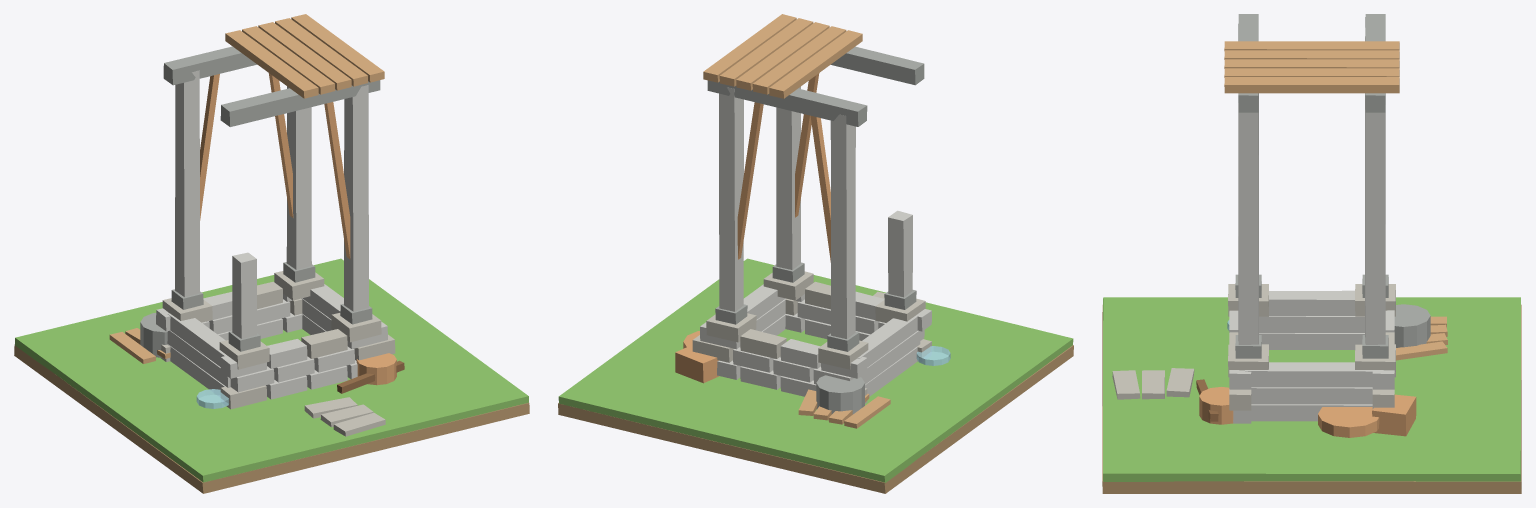
File: tower_l06_damaged_LOD2.glb
3 views of the same model, side by side, from view 1: azimuth 30°, elevation 25°; view 2: azimuth 150°, elevation 25°; view 3: azimuth 270°, elevation 25° (orthographic). The views are drawn at different scales.
Visible parts, largest first — view 1: tower_l06_grass_tile_tower_l06_damaged_LOD2_tmp, tower_l06_earth_tile_tower_l06_damaged_LOD2_tmp, post_-0.61_0.54_tower_l06_damaged_LOD2_tmp, post_0.61_-0.54_tower_l06_damaged_LOD2_tmp, post_0.61_0.54_tower_l06_damaged_LOD2_tmp, deck_bearer_-0.54_tower_l06_damaged_LOD2_tmp, post_-0.61_-0.54_tower_l06_damaged_LOD2_tmp, deck_bearer_0.54_tower_l06_damaged_LOD2_tmp, deck_board_4_tower_l06_damaged_LOD2_tmp, brace_0.61_-0.54_tower_l06_damaged_LOD2_tmp, deck_board_8_tower_l06_damaged_LOD2_tmp, deck_board_6_tower_l06_damaged_LOD2_tmp (+30 smaller); view 2: tower_l06_grass_tile_tower_l06_damaged_LOD2_tmp, tower_l06_earth_tile_tower_l06_damaged_LOD2_tmp, post_-0.61_0.54_tower_l06_damaged_LOD2_tmp, post_0.61_0.54_tower_l06_damaged_LOD2_tmp, post_0.61_-0.54_tower_l06_damaged_LOD2_tmp, deck_bearer_0.54_tower_l06_damaged_LOD2_tmp, post_-0.61_-0.54_tower_l06_damaged_LOD2_tmp, deck_bearer_-0.54_tower_l06_damaged_LOD2_tmp, deck_board_4_tower_l06_damaged_LOD2_tmp, fallen_relay_tower_l06_damaged_LOD2_tmp, deck_board_7_tower_l06_damaged_LOD2_tmp, deck_board_5_tower_l06_damaged_LOD2_tmp (+25 smaller); view 3: tower_l06_grass_tile_tower_l06_damaged_LOD2_tmp, tower_l06_earth_tile_tower_l06_damaged_LOD2_tmp, post_0.61_-0.54_tower_l06_damaged_LOD2_tmp, post_0.61_0.54_tower_l06_damaged_LOD2_tmp, deck_board_8_tower_l06_damaged_LOD2_tmp, stone_return_2_0.72_tower_l06_damaged_LOD2_tmp, stone_return_1_0.72_tower_l06_damaged_LOD2_tmp, stone_return_2_-0.72_tower_l06_damaged_LOD2_tmp, stone_return_1_-0.72_tower_l06_damaged_LOD2_tmp, deck_board_4_tower_l06_damaged_LOD2_tmp, deck_board_5_tower_l06_damaged_LOD2_tmp, deck_board_6_tower_l06_damaged_LOD2_tmp (+21 smaller).
Boxes of the visible parts, bbox=[...] form: tower_l06_grass_tile_tower_l06_damaged_LOD2_tmp: bbox=[15, 258, 528, 482]; tower_l06_earth_tile_tower_l06_damaged_LOD2_tmp: bbox=[14, 344, 529, 493]; post_-0.61_0.54_tower_l06_damaged_LOD2_tmp: bbox=[175, 70, 199, 297]; post_0.61_-0.54_tower_l06_damaged_LOD2_tmp: bbox=[344, 85, 368, 311]; post_0.61_0.54_tower_l06_damaged_LOD2_tmp: bbox=[286, 86, 311, 269]; deck_bearer_-0.54_tower_l06_damaged_LOD2_tmp: bbox=[220, 80, 380, 126]; post_-0.61_-0.54_tower_l06_damaged_LOD2_tmp: bbox=[232, 252, 256, 338]; deck_bearer_0.54_tower_l06_damaged_LOD2_tmp: bbox=[163, 46, 256, 85]; deck_board_4_tower_l06_damaged_LOD2_tmp: bbox=[225, 30, 318, 98]; brace_0.61_-0.54_tower_l06_damaged_LOD2_tmp: bbox=[324, 102, 350, 259]; deck_board_8_tower_l06_damaged_LOD2_tmp: bbox=[291, 14, 384, 82]; deck_board_6_tower_l06_damaged_LOD2_tmp: bbox=[258, 22, 351, 90]; tower_l06_grass_tile_tower_l06_damaged_LOD2_tmp: bbox=[558, 258, 1073, 482]; tower_l06_earth_tile_tower_l06_damaged_LOD2_tmp: bbox=[558, 345, 1073, 493]; post_-0.61_0.54_tower_l06_damaged_LOD2_tmp: bbox=[830, 114, 855, 338]; post_0.61_0.54_tower_l06_damaged_LOD2_tmp: bbox=[719, 87, 743, 311]; post_0.61_-0.54_tower_l06_damaged_LOD2_tmp: bbox=[776, 86, 800, 269]; deck_bearer_0.54_tower_l06_damaged_LOD2_tmp: bbox=[707, 80, 867, 126]; post_-0.61_-0.54_tower_l06_damaged_LOD2_tmp: bbox=[888, 210, 912, 297]; deck_bearer_-0.54_tower_l06_damaged_LOD2_tmp: bbox=[831, 46, 924, 85]; deck_board_4_tower_l06_damaged_LOD2_tmp: bbox=[769, 30, 862, 98]; fallen_relay_tower_l06_damaged_LOD2_tmp: bbox=[816, 375, 864, 414]; deck_board_7_tower_l06_damaged_LOD2_tmp: bbox=[719, 18, 813, 86]; deck_board_5_tower_l06_damaged_LOD2_tmp: bbox=[752, 26, 846, 94]; tower_l06_grass_tile_tower_l06_damaged_LOD2_tmp: bbox=[1103, 297, 1520, 481]; tower_l06_earth_tile_tower_l06_damaged_LOD2_tmp: bbox=[1102, 304, 1521, 493]; post_0.61_-0.54_tower_l06_damaged_LOD2_tmp: bbox=[1238, 93, 1258, 344]; post_0.61_0.54_tower_l06_damaged_LOD2_tmp: bbox=[1365, 97, 1385, 344]; deck_board_8_tower_l06_damaged_LOD2_tmp: bbox=[1224, 77, 1399, 93]; stone_return_2_0.72_tower_l06_damaged_LOD2_tmp: bbox=[1245, 362, 1373, 387]; stone_return_1_0.72_tower_l06_damaged_LOD2_tmp: bbox=[1251, 387, 1372, 404]; stone_return_2_-0.72_tower_l06_damaged_LOD2_tmp: bbox=[1269, 290, 1355, 315]; stone_return_1_-0.72_tower_l06_damaged_LOD2_tmp: bbox=[1259, 316, 1364, 332]; deck_board_4_tower_l06_damaged_LOD2_tmp: bbox=[1224, 41, 1399, 50]; deck_board_5_tower_l06_damaged_LOD2_tmp: bbox=[1224, 50, 1399, 59]; deck_board_6_tower_l06_damaged_LOD2_tmp: bbox=[1224, 59, 1399, 68].
Size of the model in its own units: 3.57 by 3.39 by 3.57.
